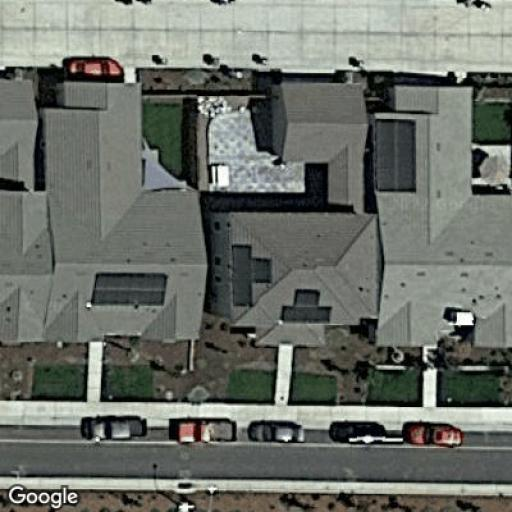solar-panel: (375, 118, 416, 193), (89, 272, 169, 307), (231, 243, 273, 308), (280, 289, 332, 325)
